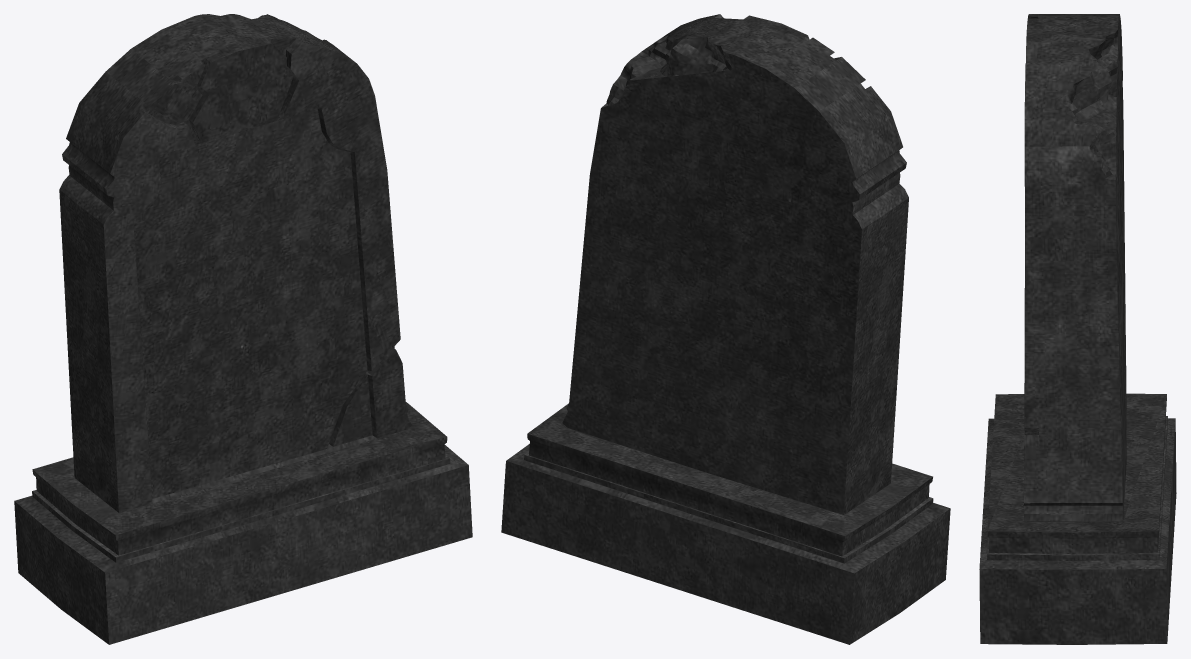
Rendered from grave3 1.fbx.
The picture shows the model from 3 angles, left to right: view 1: azimuth 30°, elevation 25°; view 2: azimuth 150°, elevation 25°; view 3: azimuth 270°, elevation 25°; orthographic projection.
Parts seen in each view (by area): view 1: Cube.010; view 2: Cube.010; view 3: Cube.010.
Boxes of the visible parts, x1,y1,x2,y2 form: Cube.010: (14,14,472,644); Cube.010: (501,14,950,644); Cube.010: (979,14,1176,644).
Bounding box in the file's own units: 126 × 178 × 58.69.
